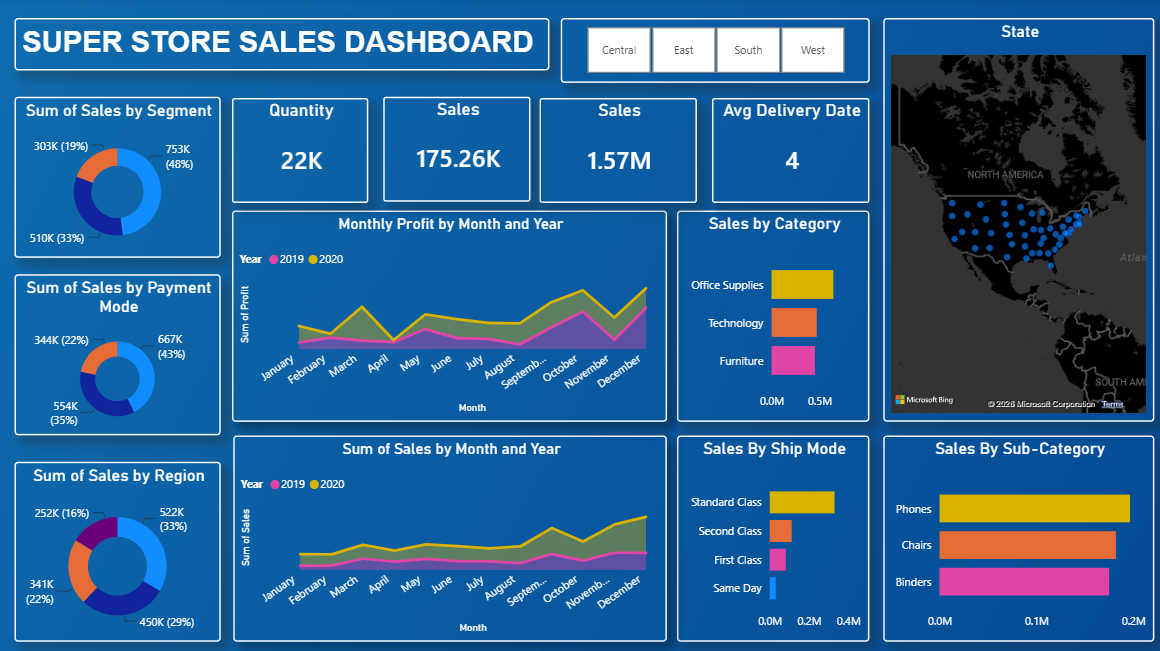

Layout of this report page (visuals, bound fields, positions):
{"tool":"powerbi","page":{"name":"Page 1","canvas":[1280,720],"ordinal":0},"visuals":[{"type":"barChart","title":"Sales by Category","fields":{"Category":["SuperStore_Sales_Dataset.Category"],"Y":["Sum(SuperStore_Sales_Dataset.Sales)"]},"box":[746.5,233.3,211.3,231.9],"z":0},{"type":"barChart","title":"Sales By Sub-Category","fields":{"Category":["SuperStore_Sales_Dataset.Sub-Category"],"Y":["Sum(SuperStore_Sales_Dataset.Sales)"]},"box":[972.9,480.3,297.8,226.4],"z":1000},{"type":"barChart","title":"Sales By Ship Mode","fields":{"Category":["SuperStore_Sales_Dataset.Ship Mode"],"Y":["Sum(SuperStore_Sales_Dataset.Sales)"]},"box":[746.5,480.3,211.3,226.4],"z":2000},{"type":"stackedAreaChart","fields":{"Y":["Sum(SuperStore_Sales_Dataset.Sales)"],"Category":["SuperStore_Sales_Dataset.Order Date.Variation.Date Hierarchy.Month"],"Series":["SuperStore_Sales_Dataset.Order Date.Variation.Date Hierarchy.Year"]},"box":[259.3,480.3,476.2,226.4],"z":3000},{"type":"stackedAreaChart","title":"Monthly Profit by Month and Year","fields":{"Y":["Sum(SuperStore_Sales_Dataset.Profit)"],"Category":["SuperStore_Sales_Dataset.Order Date.Variation.Date Hierarchy.Month"],"Series":["SuperStore_Sales_Dataset.Order Date.Variation.Date Hierarchy.Year"]},"box":[258,233.3,477.5,231.9],"z":4000},{"type":"map","fields":{"Category":["SuperStore_Sales_Dataset.State"]},"box":[972.9,22,297.8,443.2],"z":5000},{"type":"donutChart","fields":{"Category":["SuperStore_Sales_Dataset.Segment"],"Y":["Sum(SuperStore_Sales_Dataset.Sales)"]},"box":[19.2,108.4,226.4,177],"z":6000},{"type":"donutChart","fields":{"Y":["Sum(SuperStore_Sales_Dataset.Sales)"],"Category":["SuperStore_Sales_Dataset.Region"]},"box":[19.2,509.1,226.4,197.6],"z":7000},{"type":"donutChart","fields":{"Category":["SuperStore_Sales_Dataset.Payment Mode"],"Y":["Sum(SuperStore_Sales_Dataset.Sales)"]},"box":[19.2,303.3,226.4,177],"z":8000},{"type":"slicer","title":"Region","fields":{"Values":["SuperStore_Sales_Dataset.Region"]},"box":[618.9,22,338.9,71.4],"z":9000},{"type":"textbox","box":[19.2,22,587.3,57.6],"z":10000},{"type":"cardVisual","title":"Sales","fields":{"Data":["Sum(SuperStore_Sales_Dataset.Sales)"]},"box":[595.5,109.8,172.9,115.3],"z":11000},{"type":"cardVisual","title":"Quantity","fields":{"Data":["Sum(SuperStore_Sales_Dataset.Quantity)"]},"box":[258,109.8,149.6,115.3],"z":12000},{"type":"cardVisual","title":"Sales","fields":{"Data":["Sum(SuperStore_Sales_Dataset.Profit)"]},"box":[424,108.4,161.9,115.3],"z":14000},{"type":"cardVisual","title":"Avg Delivery Date","fields":{"Data":["Avg(SuperStore_Sales_Dataset.Avgdelivery)"]},"box":[784.9,109.8,172.9,115.3],"z":15000}]}

Visuals, with their boxes in screenshot pixels (x1, y1, x2, y2), scaled from the page's 1280x720 canvas onto the 1160x651 screenshot:
"Sales by Category" barChart: box=[677, 211, 868, 421]
"Sales By Sub-Category" barChart: box=[882, 434, 1152, 639]
"Sales By Ship Mode" barChart: box=[677, 434, 868, 639]
stackedAreaChart - Sum(SuperStore_Sales_Dataset.Sales) x SuperStore_Sales_Dataset.Order Date.Variation.Date Hierarchy.Month: box=[235, 434, 667, 639]
"Monthly Profit by Month and Year" stackedAreaChart: box=[234, 211, 667, 421]
map - SuperStore_Sales_Dataset.State: box=[882, 20, 1152, 421]
donutChart - SuperStore_Sales_Dataset.Segment x Sum(SuperStore_Sales_Dataset.Sales): box=[17, 98, 223, 258]
donutChart - Sum(SuperStore_Sales_Dataset.Sales) x SuperStore_Sales_Dataset.Region: box=[17, 460, 223, 639]
donutChart - SuperStore_Sales_Dataset.Payment Mode x Sum(SuperStore_Sales_Dataset.Sales): box=[17, 274, 223, 434]
"Region" slicer: box=[561, 20, 868, 84]
textbox: box=[17, 20, 550, 72]
"Sales" cardVisual: box=[540, 99, 696, 204]
"Quantity" cardVisual: box=[234, 99, 369, 204]
"Sales" cardVisual: box=[384, 98, 531, 202]
"Avg Delivery Date" cardVisual: box=[711, 99, 868, 204]
